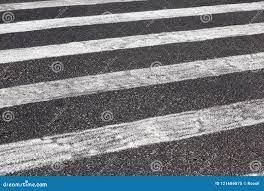faded_road_lines: (0, 99, 263, 174), (0, 52, 263, 107), (0, 23, 263, 63), (0, 0, 146, 11), (228, 169, 263, 176)
